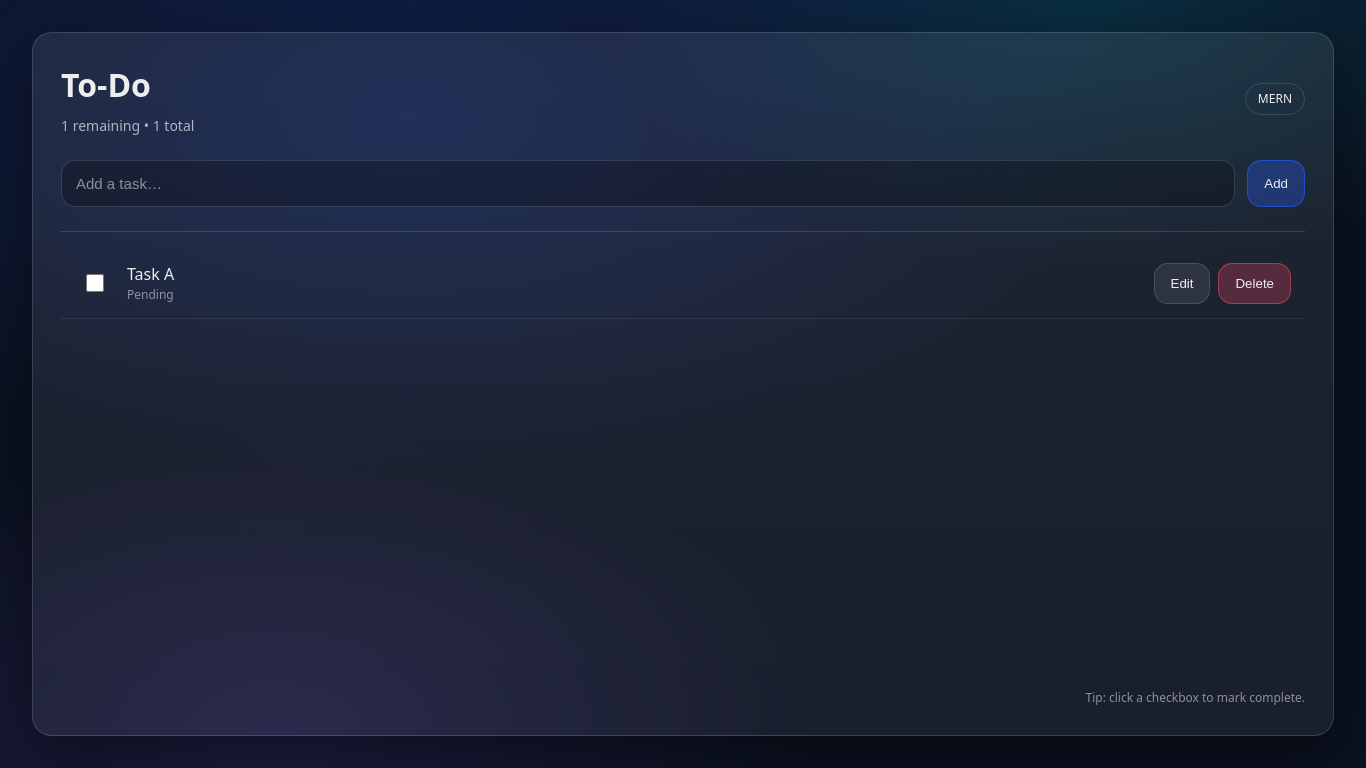
it: Mark a task as complete and check status update
Expected: the text "Task A" is shown, [127,263,174,285]
Click the checkbox at (95, 283), box [86,274,104,292]
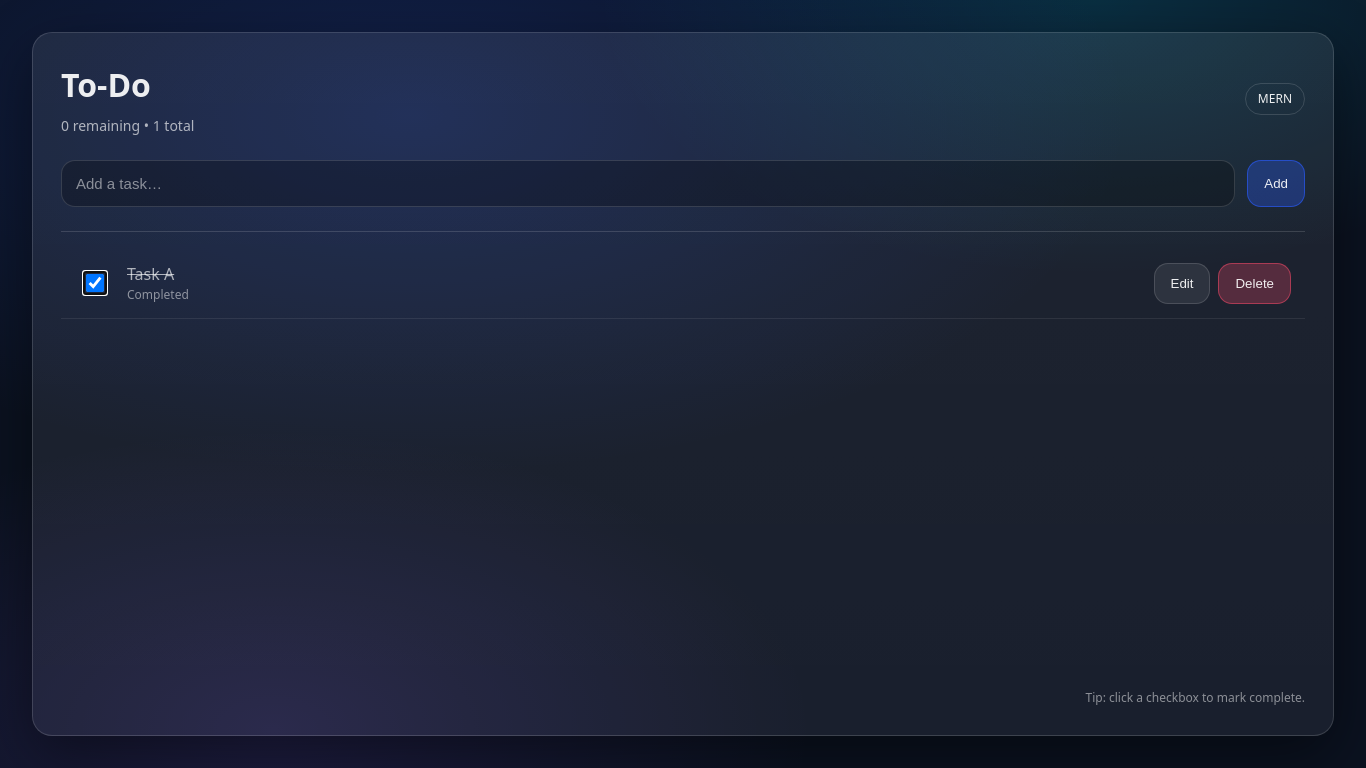
Result: the text "Completed" is shown at [127,286,189,303]
